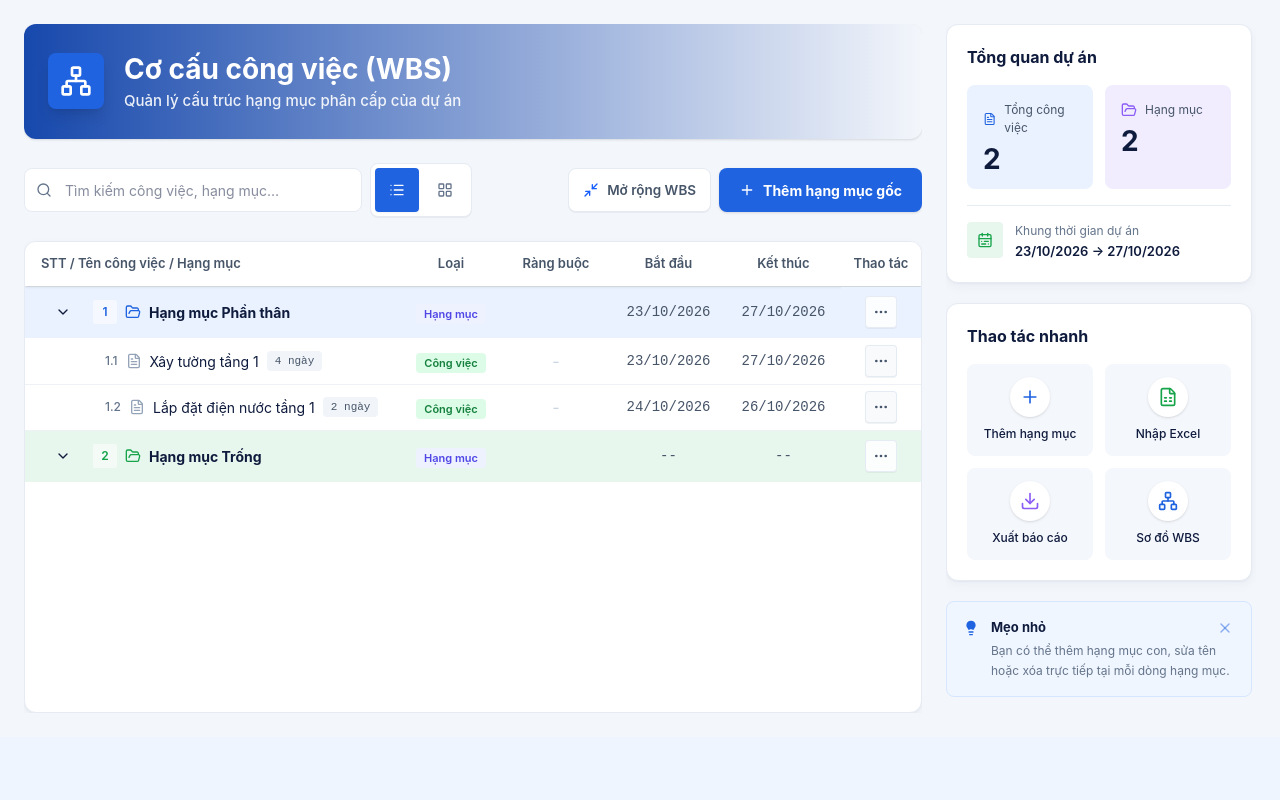
Test case: WBSPage › chuyển đổi qua lại giữa dạng danh sách (bảng) và dạng lưới (thẻ)
The width and height of the screenshot is (1280, 800).
Expected: the table is shown, [25,242,921,482]
// Bấm nút chuyển sang dạng lưới (thẻ)
Step 1. Click the button named "Xem dạng lưới" → (445,190), box [423,168,467,212]
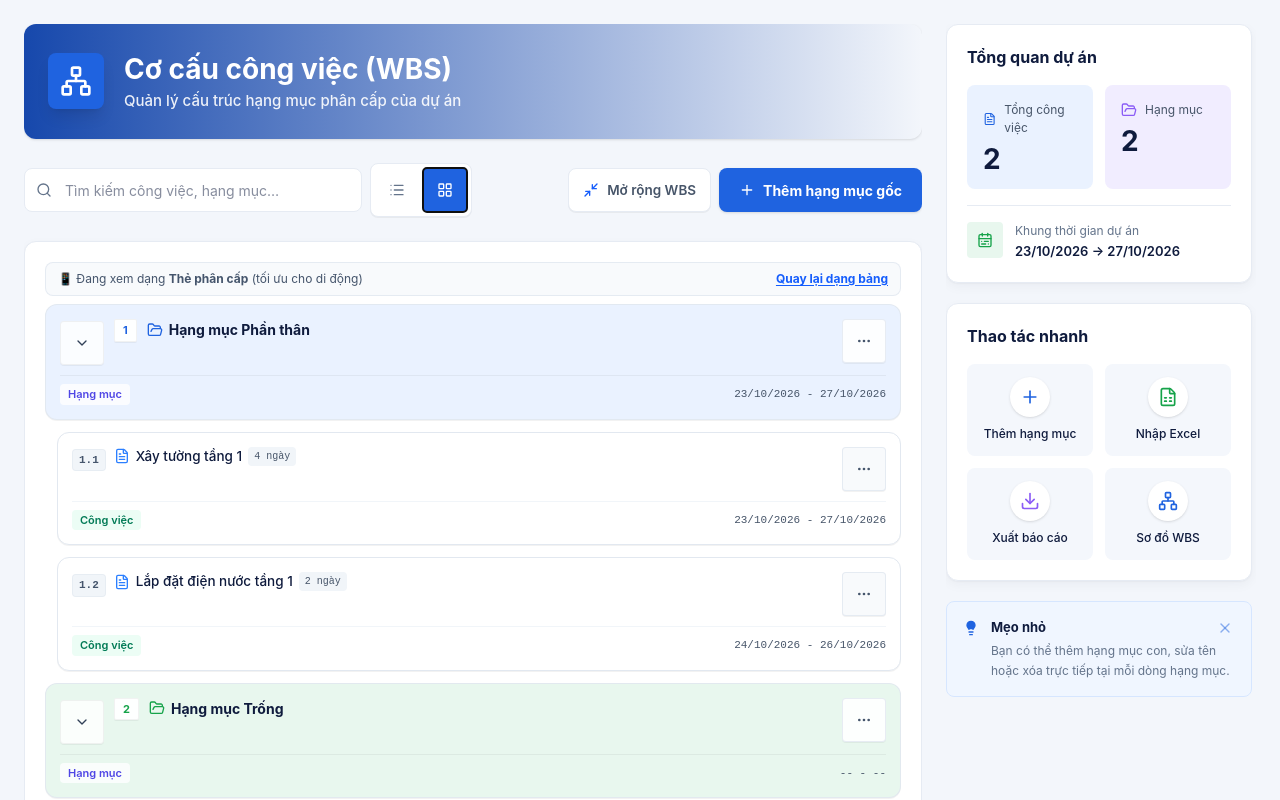
Now the table is gone
Now the text "📱 Đang xem dạng Thẻ phân cấp (tối ưu cho di động)" is shown, box [58,271,363,287]
// Bấm nút quay lại dạng danh sách (bảng)
Step 2. Click the button named "Xem dạng danh sách" → (397,190), box [375,168,419,212]
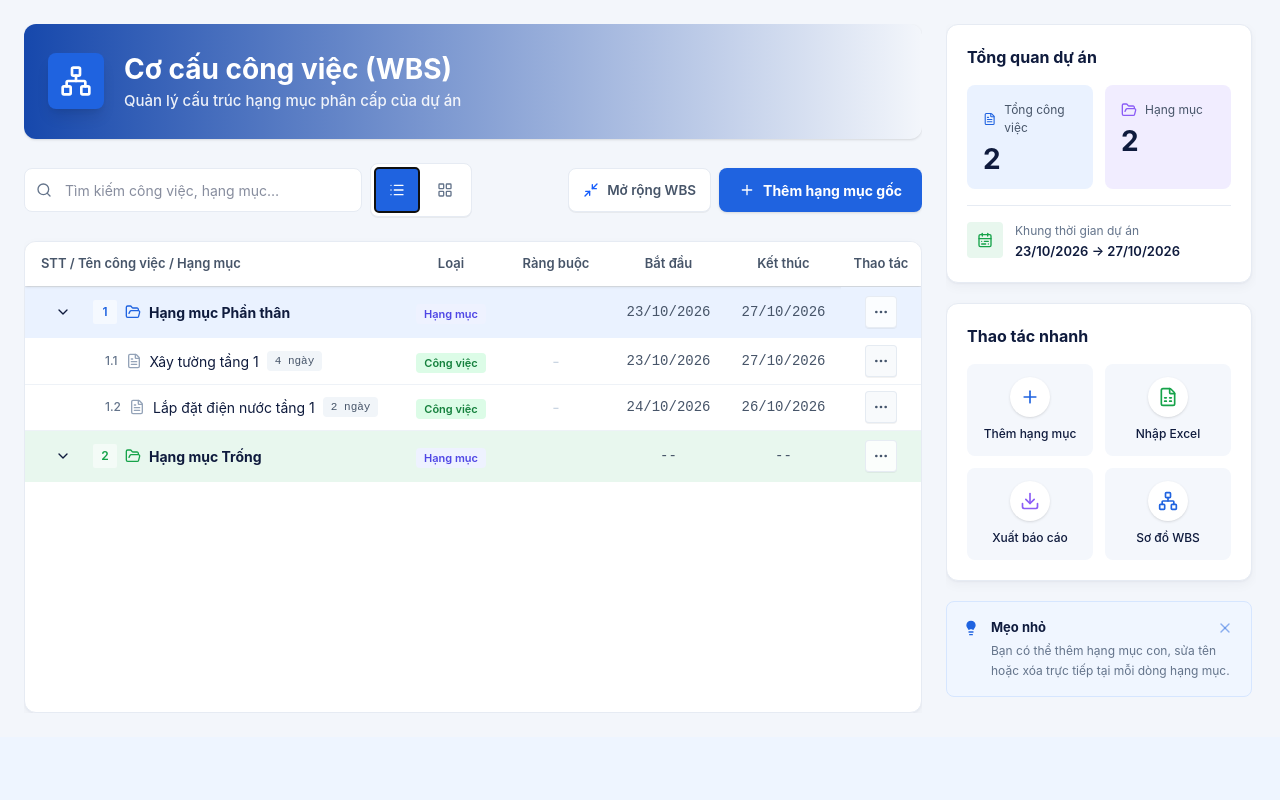
Now the table is shown, box [25,242,921,482]
